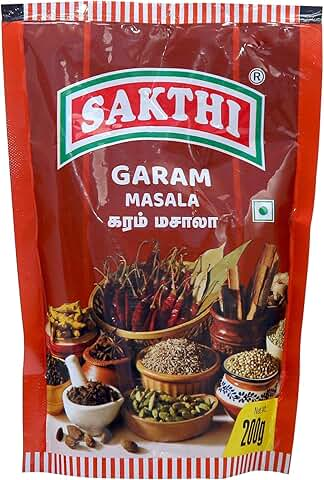Garamasala: (1, 6, 301, 480)
